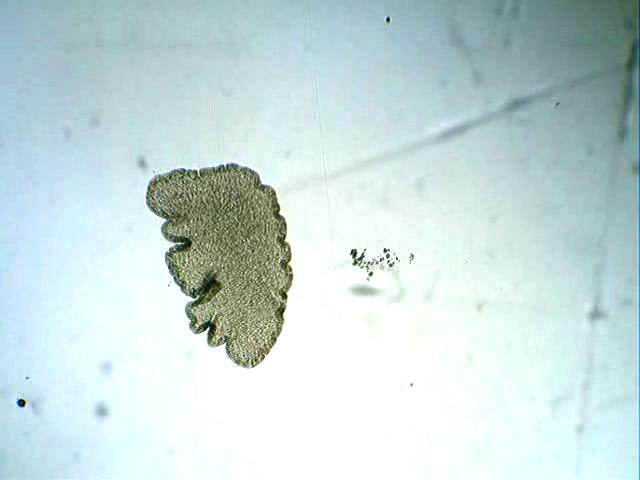Placozoan: (144, 161, 294, 369)
